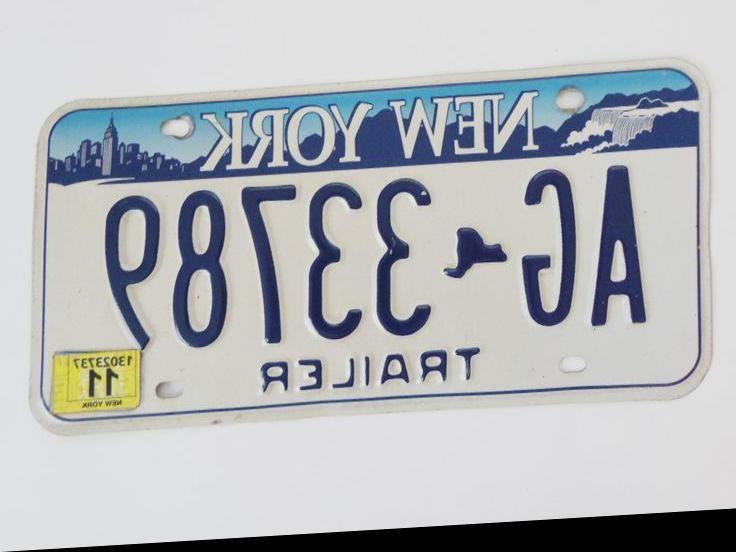License_Plate: (28, 51, 706, 431)
